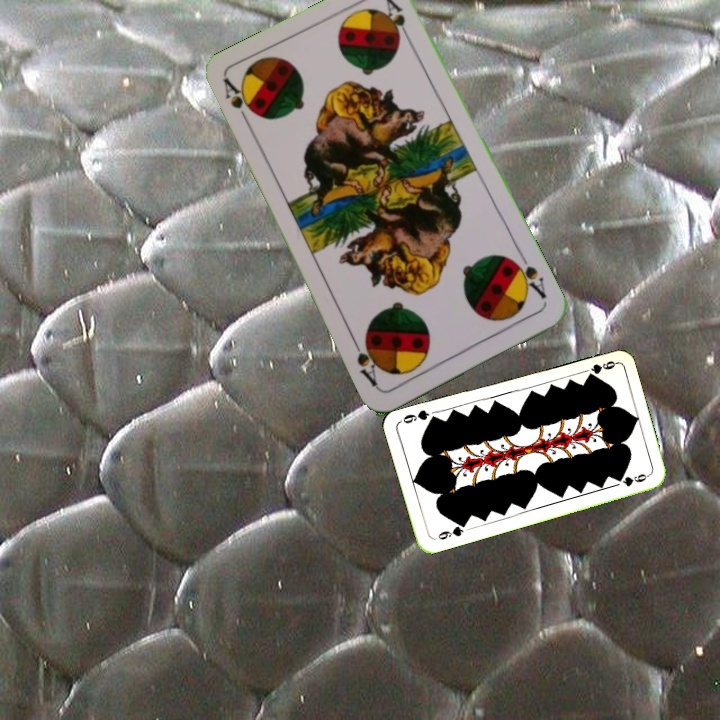G9: (430, 519, 469, 542), (587, 357, 618, 376)
SA: (220, 75, 256, 131), (509, 252, 549, 301)
